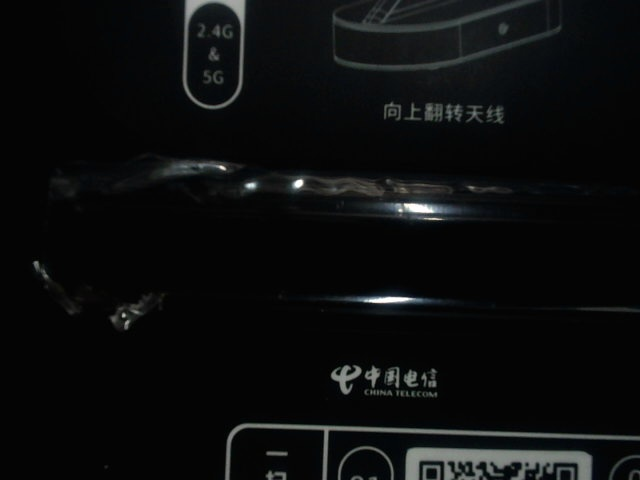AB_ChinaTelecom: (326, 354, 448, 407)
